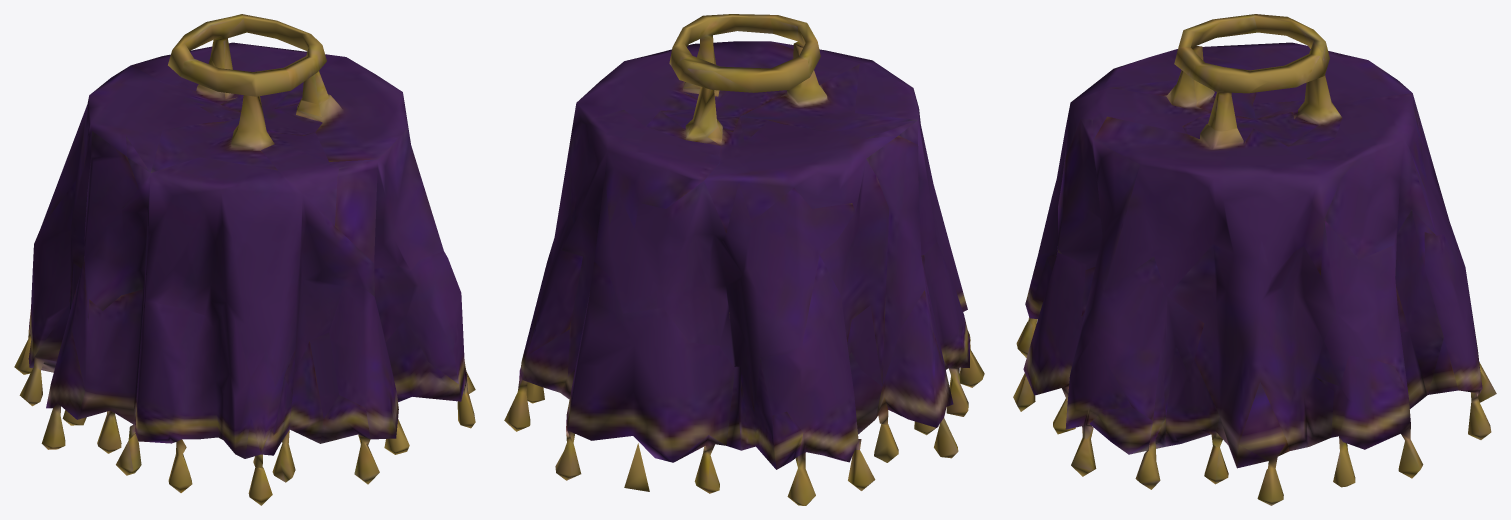
Rendered from table.glb.
3 views of the same model, side by side, from view 1: azimuth 30°, elevation 25°; view 2: azimuth 150°, elevation 25°; view 3: azimuth 270°, elevation 25° (orthographic). The views are drawn at different scales.
Parts seen in each view (by area): view 1: tripo_node_be5937fa-da50-49c2-a84f-a69917ec6af2; view 2: tripo_node_be5937fa-da50-49c2-a84f-a69917ec6af2; view 3: tripo_node_be5937fa-da50-49c2-a84f-a69917ec6af2.
Boxes of the visible parts, x1,y1,x2,y2 form: tripo_node_be5937fa-da50-49c2-a84f-a69917ec6af2: (14, 14, 475, 505); tripo_node_be5937fa-da50-49c2-a84f-a69917ec6af2: (504, 14, 984, 505); tripo_node_be5937fa-da50-49c2-a84f-a69917ec6af2: (1013, 14, 1496, 505).
Bounding box in the file's own units: 1 × 0.8341 × 0.995.
1 material, 1 textured.
